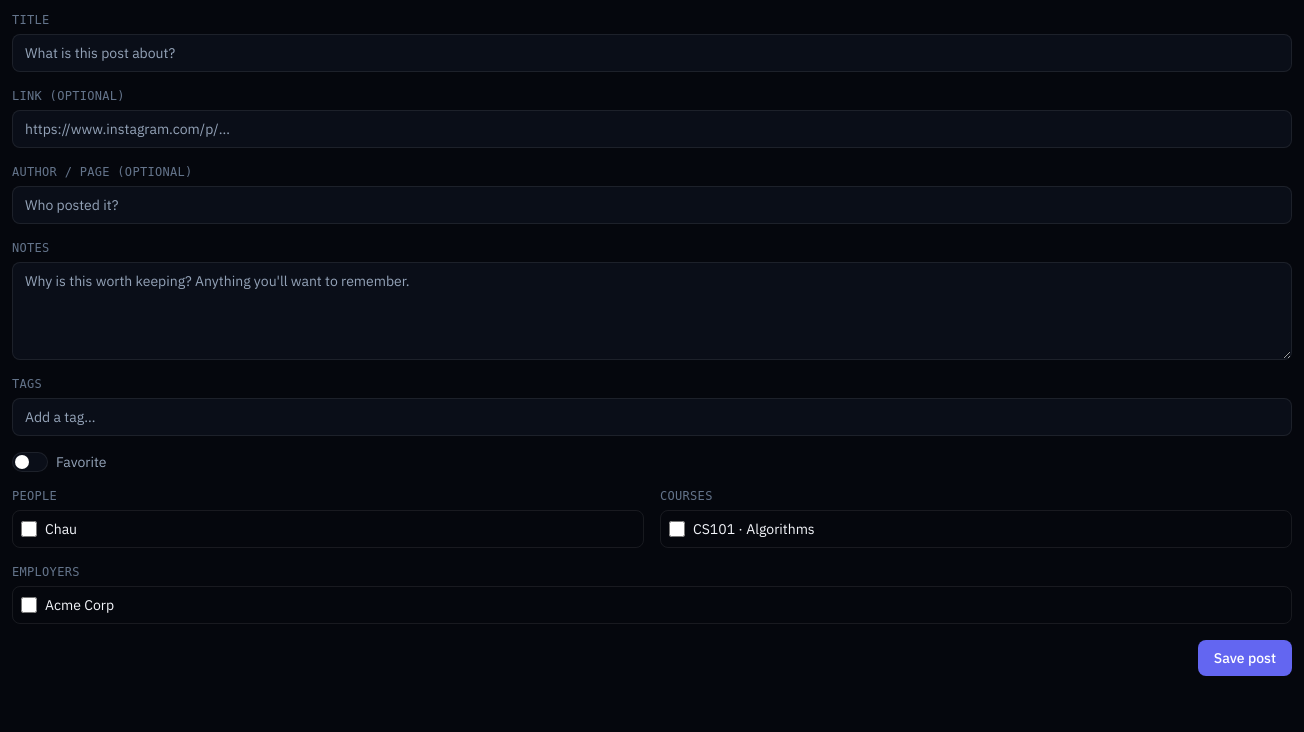
Test case: PostForm › rejects a javascript: URL and never submits
Step 1. Type "Sneaky" into the field labelled "Title" → (652, 53), box x1=12 y1=34 x2=1292 y2=72
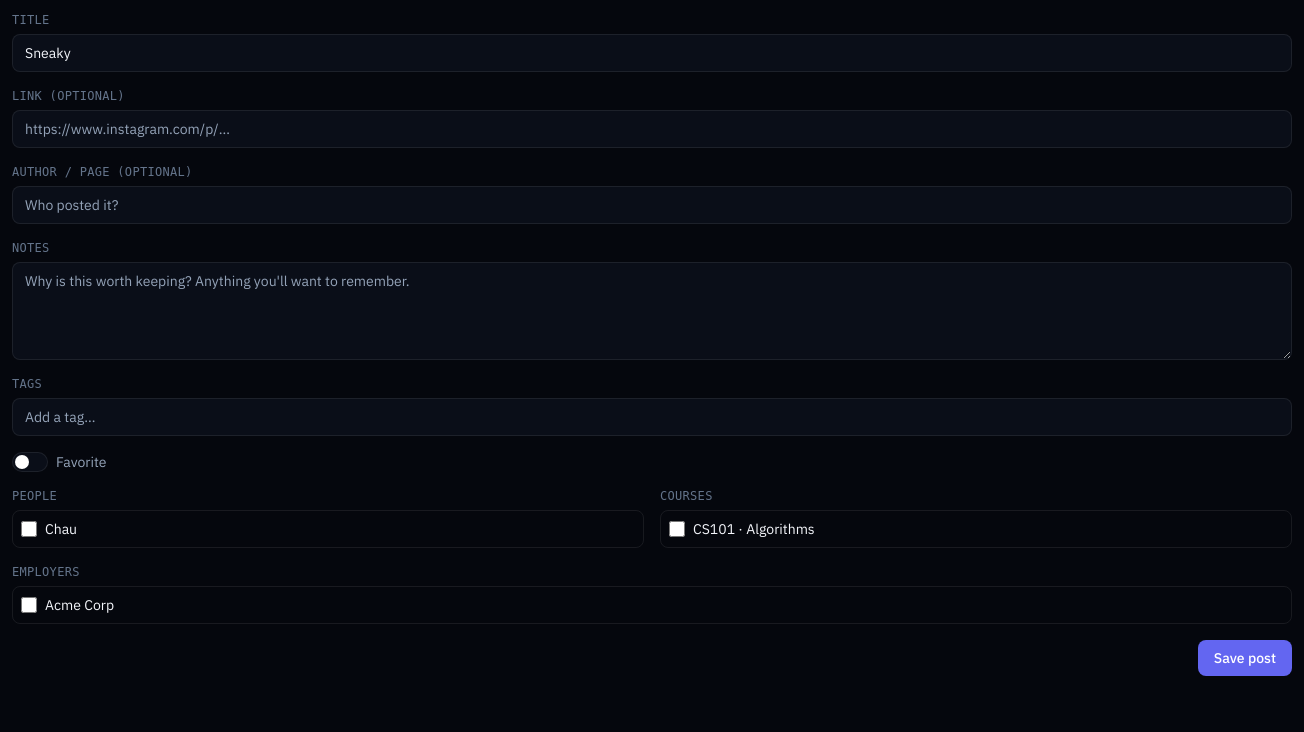
Step 2. Type "javascript:alert(1)" into the field labelled "Link (optional)" → (652, 129), box x1=12 y1=110 x2=1292 y2=148
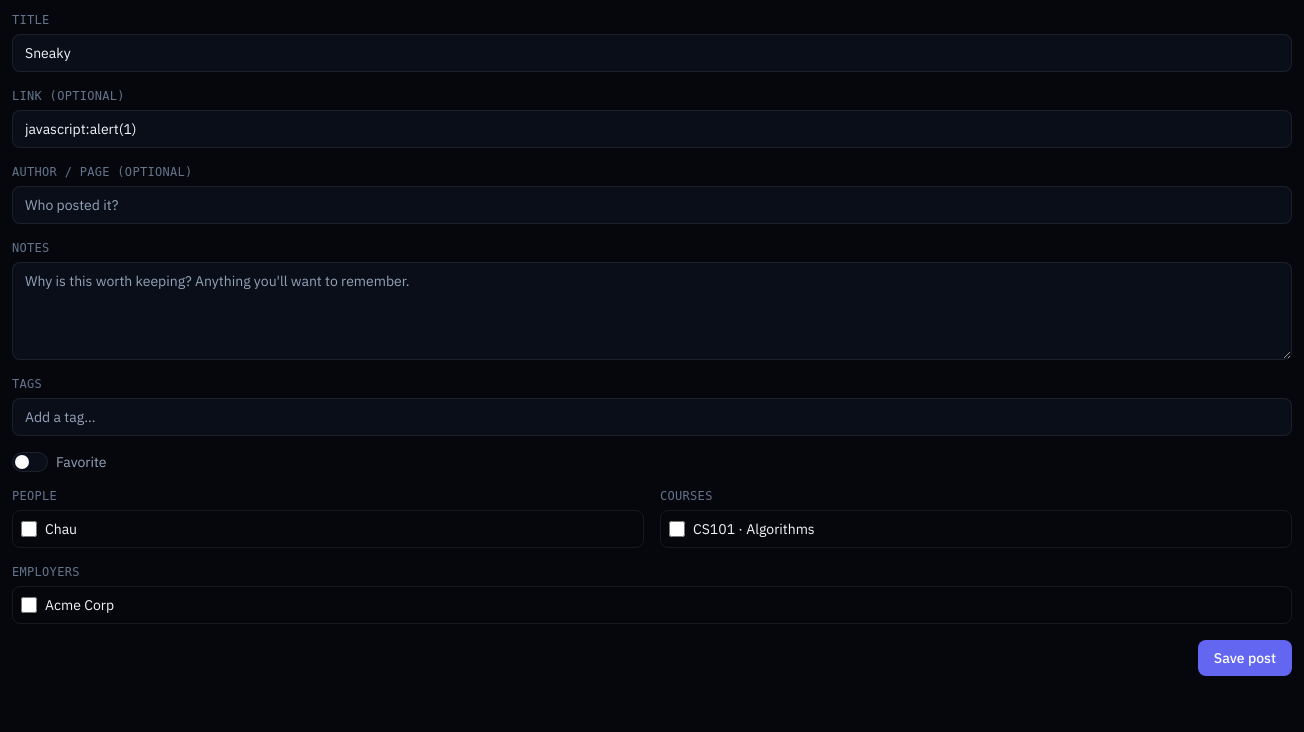
Step 3. Click the button "Save post" → click(1245, 658), box x1=1198 y1=640 x2=1292 y2=676
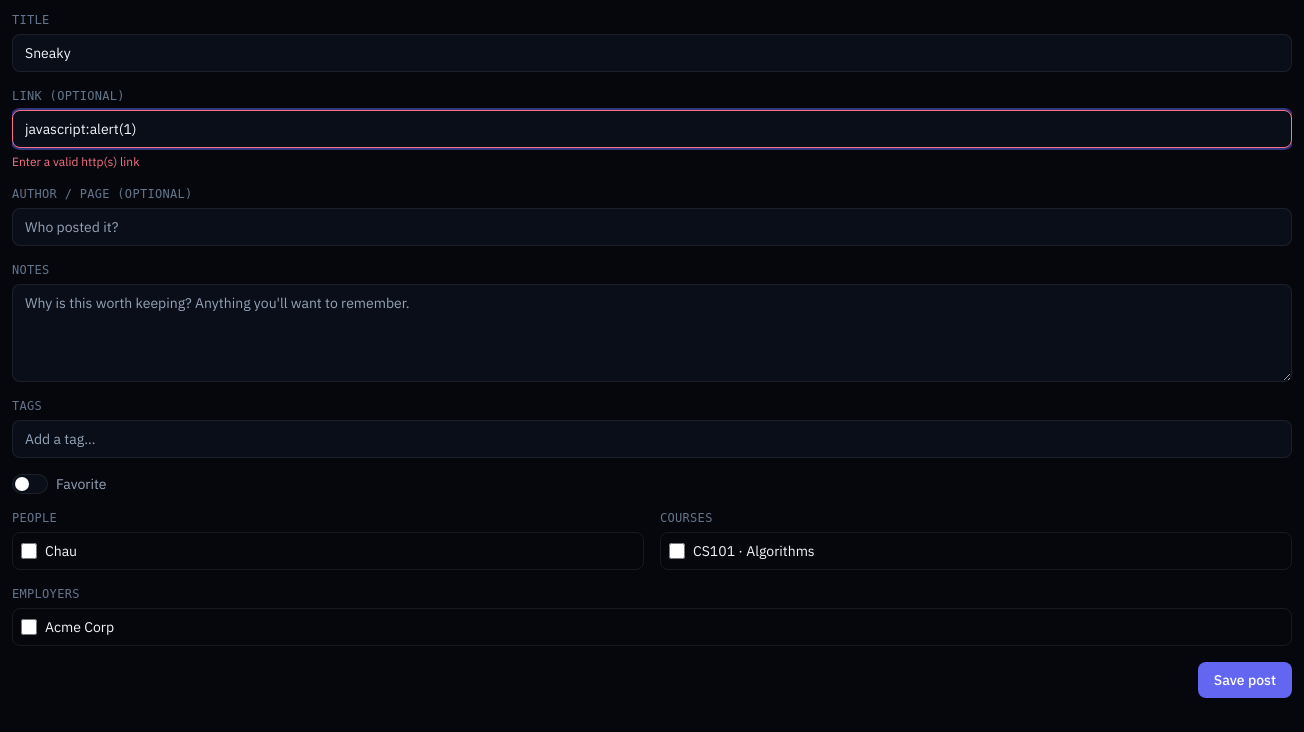
Expected: the text "Enter a valid http(s) link" is shown, x1=12 y1=154 x2=140 y2=169
